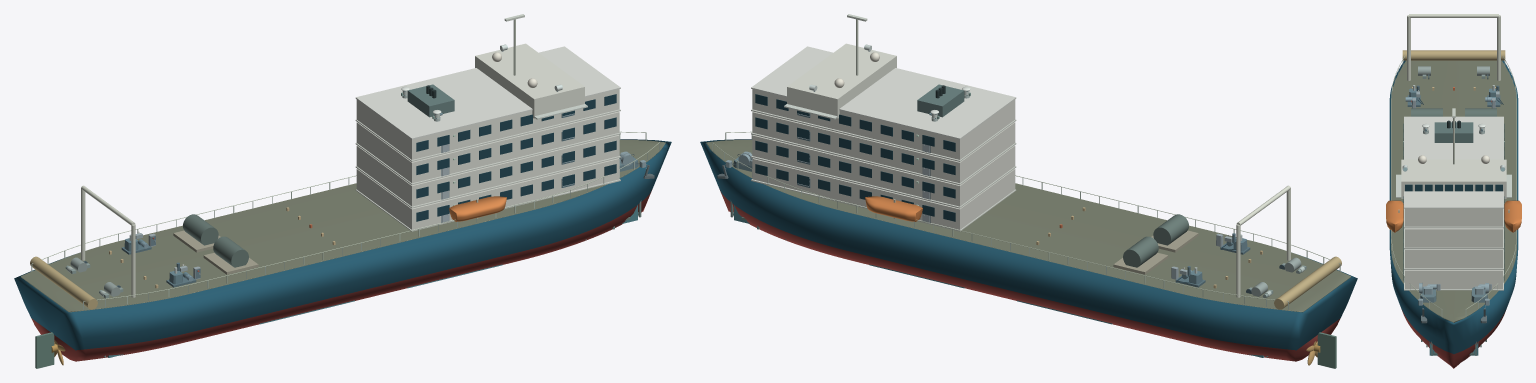
Rendered from kirkella.lod1.glb.
3 renders of one model, left to right at view 1: azimuth 30°, elevation 25°; view 2: azimuth 150°, elevation 25°; view 3: azimuth 270°, elevation 25°, orthographic. The views are drawn at different scales.
Visible parts, largest first — view 1: kirkella.structure.hull.outer-hull-shell.1, kirkella.structure.decks.main-strength-deck.1, kirkella.accommodation.superstructure.superstructure-weather, kirkella.structure.hull.antifouling-underwater-shell.1, kirkella.accommodation.superstructure.deck-3-enclosure.1, kirkella.accommodation.superstructure.deck-2-enclosure.1, kirkella.navigation.bridge.wheelhouse.1, kirkella.accommodation.superstructure.deck-1-enclosure.1, kirkella.accommodation.superstructure.deck-4-enclosure.1, kirkella.propulsion.exhaust.exhaust-casing.1, kirkella.safety.survival-craft.lifeboat-starboard-1.1, kirkella.cargo.working-deck.stern-roller.1 (+6 smaller); view 2: kirkella.structure.hull.outer-hull-shell.1, kirkella.structure.decks.main-strength-deck.1, kirkella.accommodation.superstructure.superstructure-weather, kirkella.structure.hull.antifouling-underwater-shell.1, kirkella.accommodation.superstructure.deck-3-enclosure.1, kirkella.accommodation.superstructure.deck-2-enclosure.1, kirkella.navigation.bridge.wheelhouse.1, kirkella.accommodation.superstructure.deck-1-enclosure.1, kirkella.accommodation.superstructure.deck-4-enclosure.1, kirkella.propulsion.exhaust.exhaust-casing.1, kirkella.safety.survival-craft.lifeboat-port-1.1, kirkella.cargo.working-deck.stern-roller.1 (+6 smaller); view 3: kirkella.structure.decks.main-strength-deck.1, kirkella.accommodation.superstructure.superstructure-weather, kirkella.structure.hull.outer-hull-shell.1, kirkella.navigation.bridge.wheelhouse.1, kirkella.accommodation.superstructure.deck-2-enclosure.1, kirkella.accommodation.superstructure.deck-3-enclosure.1, kirkella.accommodation.superstructure.deck-4-enclosure.1, kirkella.accommodation.superstructure.deck-1-enclosure.1, kirkella.cargo.working-deck.stern-roller.1, kirkella.propulsion.exhaust.exhaust-casing.1, kirkella.structure.hull.antifouling-underwater-shell.1, kirkella.safety.survival-craft.lifeboat-port-1.1 (+16 smaller).
Part boxes in pixels (x1,y1,x2,y2): kirkella.structure.hull.outer-hull-shell.1: (14,139,671,350); kirkella.structure.decks.main-strength-deck.1: (21,140,665,312); kirkella.accommodation.superstructure.superstructure-weather: (355,46,620,139); kirkella.structure.hull.antifouling-underwater-shell.1: (31,189,652,361); kirkella.accommodation.superstructure.deck-3-enclosure.1: (356,111,619,183); kirkella.accommodation.superstructure.deck-2-enclosure.1: (356,135,619,206); kirkella.navigation.bridge.wheelhouse.1: (475,43,584,118); kirkella.accommodation.superstructure.deck-1-enclosure.1: (356,158,619,229); kirkella.accommodation.superstructure.deck-4-enclosure.1: (356,89,619,159); kirkella.propulsion.exhaust.exhaust-casing.1: (407,84,454,117); kirkella.safety.survival-craft.lifeboat-starboard-1.1: (449,196,506,221); kirkella.cargo.working-deck.stern-roller.1: (30,256,97,309); kirkella.structure.hull.outer-hull-shell.1: (700,139,1357,350); kirkella.structure.decks.main-strength-deck.1: (706,140,1350,312); kirkella.accommodation.superstructure.superstructure-weather: (751,46,1016,139); kirkella.structure.hull.antifouling-underwater-shell.1: (719,189,1340,361); kirkella.accommodation.superstructure.deck-3-enclosure.1: (752,111,1015,183); kirkella.accommodation.superstructure.deck-2-enclosure.1: (752,135,1015,206); kirkella.navigation.bridge.wheelhouse.1: (787,43,896,118); kirkella.accommodation.superstructure.deck-1-enclosure.1: (752,158,1015,229); kirkella.accommodation.superstructure.deck-4-enclosure.1: (752,89,1015,159); kirkella.propulsion.exhaust.exhaust-casing.1: (917,84,964,117); kirkella.safety.survival-craft.lifeboat-port-1.1: (865,196,922,221); kirkella.cargo.working-deck.stern-roller.1: (1274,256,1341,309); kirkella.structure.decks.main-strength-deck.1: (1391,60,1516,322); kirkella.accommodation.superstructure.superstructure-weather: (1404,116,1503,208); kirkella.structure.hull.outer-hull-shell.1: (1389,60,1518,353); kirkella.navigation.bridge.wheelhouse.1: (1401,159,1506,198); kirkella.accommodation.superstructure.deck-2-enclosure.1: (1405,249,1502,268); kirkella.accommodation.superstructure.deck-3-enclosure.1: (1405,228,1502,247); kirkella.accommodation.superstructure.deck-4-enclosure.1: (1405,208,1502,226); kirkella.accommodation.superstructure.deck-1-enclosure.1: (1405,270,1502,288); kirkella.cargo.working-deck.stern-roller.1: (1402,50,1505,60); kirkella.propulsion.exhaust.exhaust-casing.1: (1434,122,1473,142); kirkella.structure.hull.antifouling-underwater-shell.1: (1401,309,1506,368); kirkella.safety.survival-craft.lifeboat-port-1.1: (1504,200,1521,232).
Size of the model in its own units: 81.32 by 28.7 by 16.92.
